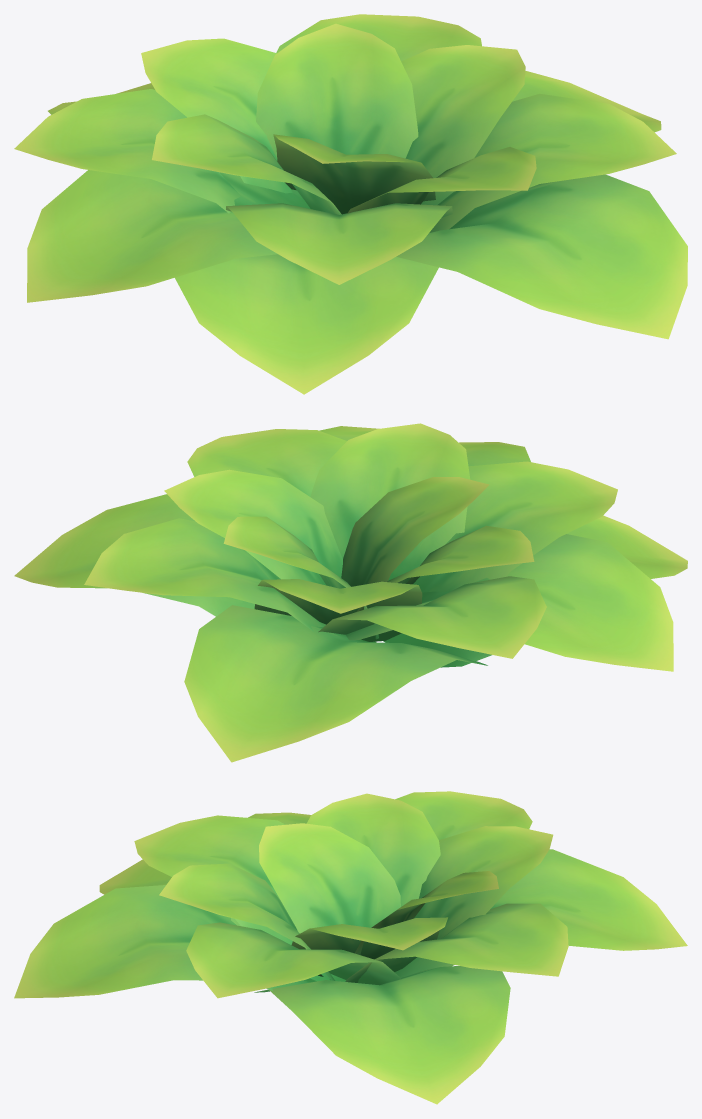
The model's file is PVB export plant 01.fbx.
3 renders of one model, top to bottom at view 1: azimuth 30°, elevation 25°; view 2: azimuth 150°, elevation 25°; view 3: azimuth 270°, elevation 25°, orthographic. The views are drawn at different scales.
Parts seen in each view (by area): view 1: pPlane6, pPlane5, pPlane4, pPlane16, pPlane9, pPlane7, pPlane13, pPlane8, pPlane11, pPlane14, pPlane15, pPlane12 (+2 smaller); view 2: pPlane3, pPlane5, pPlane10, pPlane12, pPlane8, pPlane7, pPlane13, pPlane15, pPlane2, pPlane9, pPlane11, pPlane4 (+3 smaller); view 3: pPlane2, pPlane6, pPlane15, pPlane3, pPlane9, pPlane10, pPlane11, pPlane14, pPlane8, pPlane12, pPlane7, pPlane13 (+3 smaller).
Part boxes in pixels (x1,y1,x2,y2): pPlane6: (396,174,687,339); pPlane5: (27,170,310,302); pPlane4: (175,254,438,394); pPlane16: (256,23,418,199); pPlane9: (429,93,676,232); pPlane7: (14,89,240,213); pPlane13: (401,45,525,205); pPlane8: (226,203,452,284); pPlane11: (141,38,292,193); pPlane14: (152,114,341,214); pPlane15: (273,134,435,214); pPlane12: (347,147,536,213); pPlane3: (184,605,487,762); pPlane5: (346,534,673,671); pPlane10: (84,518,324,631); pPlane12: (310,423,470,580); pPlane8: (413,461,617,592); pPlane7: (318,576,546,658); pPlane13: (164,469,342,585); pPlane15: (341,477,489,586); pPlane2: (14,494,254,616); pPlane9: (187,429,346,496); pPlane11: (254,579,422,624); pPlane4: (383,515,687,667); pPlane2: (254,966,510,1104); pPlane6: (14,885,316,998); pPlane15: (259,823,400,981); pPlane3: (395,849,687,977); pPlane9: (186,922,401,998); pPlane10: (345,903,568,982); pPlane11: (414,826,553,939); pPlane14: (307,793,440,906); pPlane8: (134,815,318,975); pPlane12: (159,863,335,980); pPlane7: (395,791,532,839); pPlane13: (291,917,447,976).
Bounding box in the file's own units: 8.7 × 1.83 × 9.11.
1 material, 1 textured.
